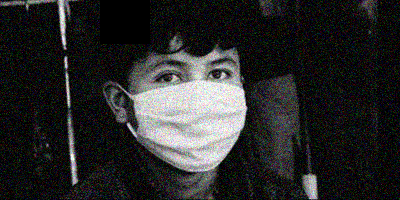with_mask: (127, 54, 246, 174)
